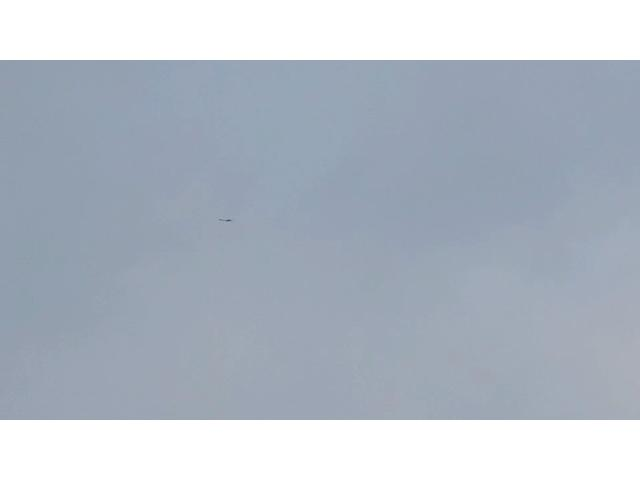Anti-Drone: (218, 214, 238, 226)
